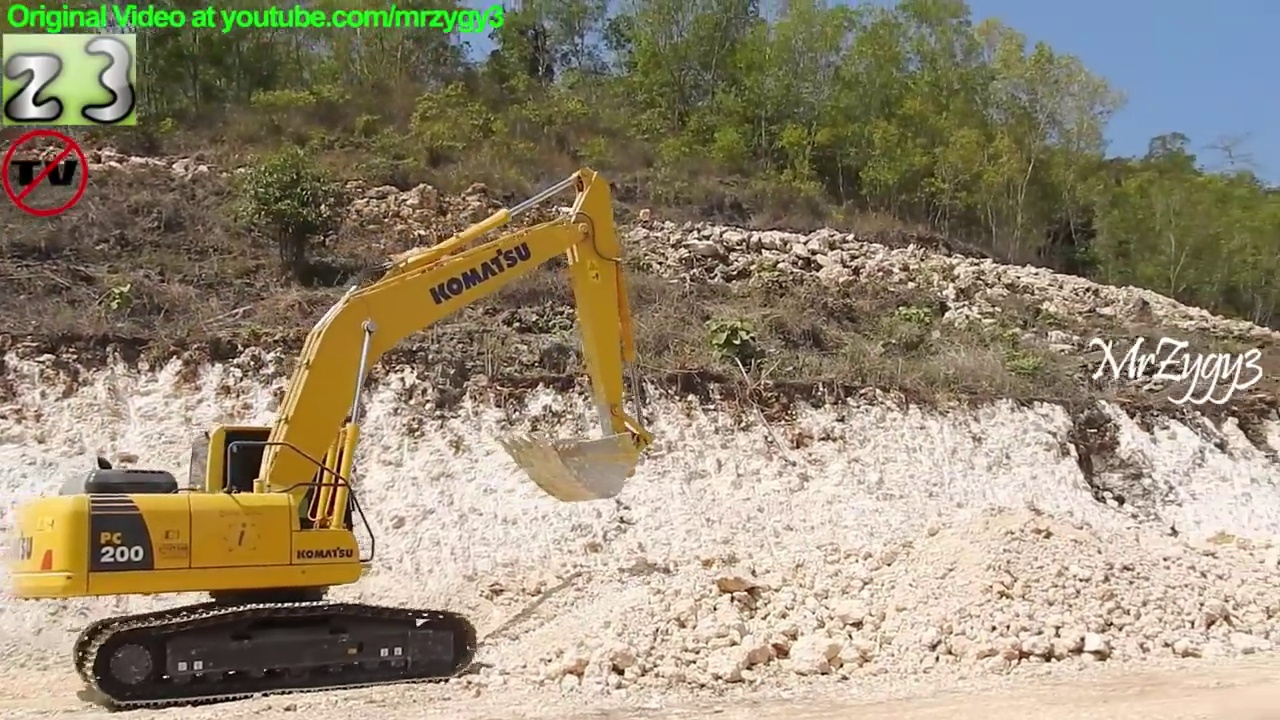excavator: (5, 162, 658, 717)
